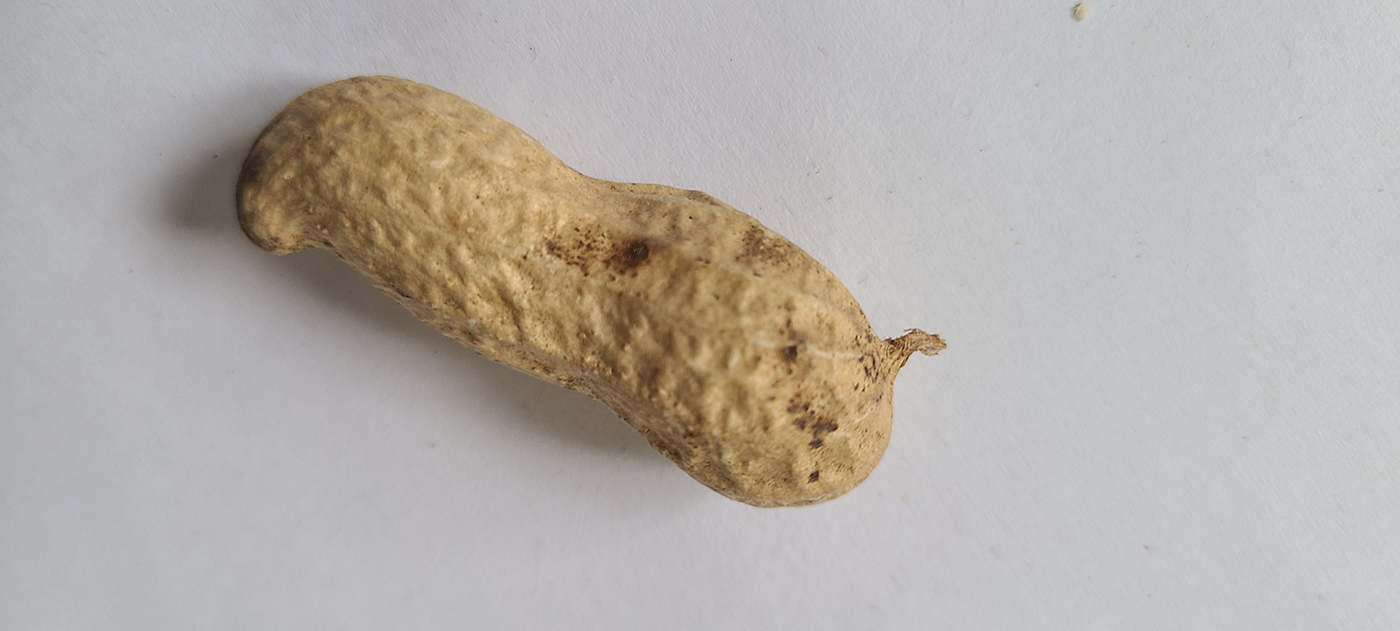h: (235, 74, 896, 508)
